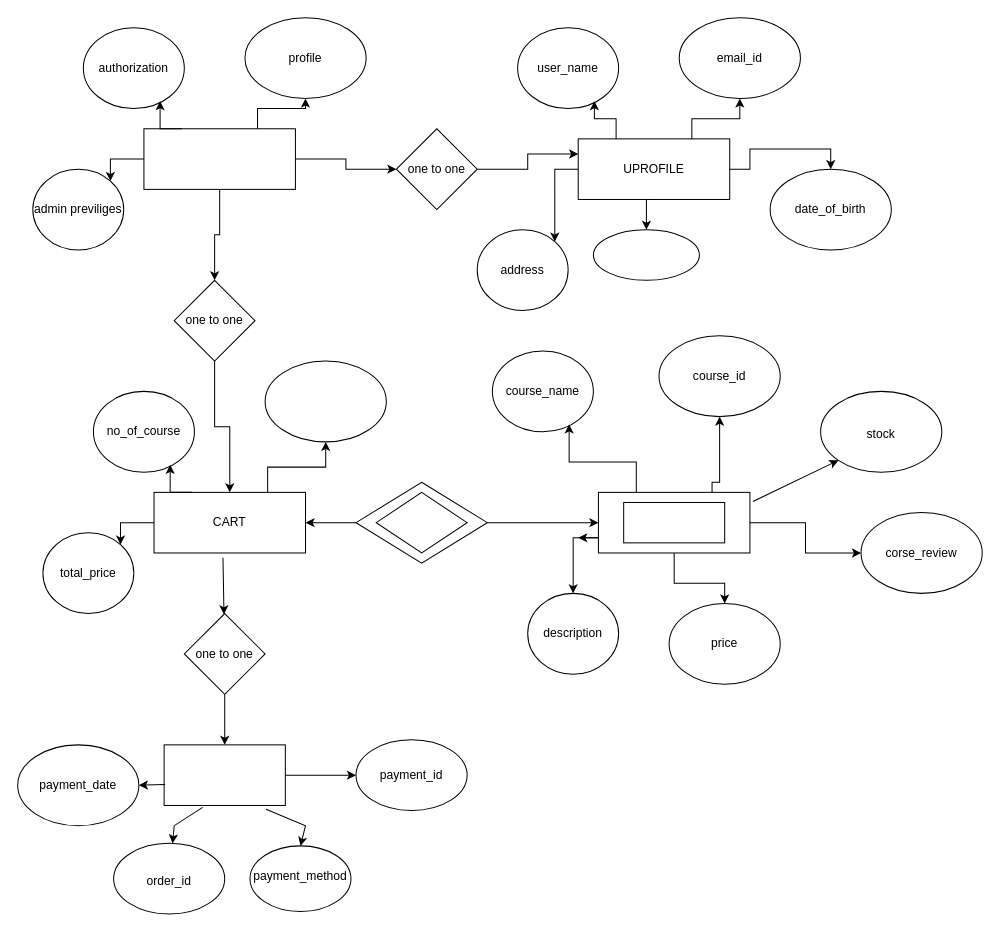
Image size: 1000x932. Some labels were removed from this diagram. Each missing label, with the centre of its shape:
"cart_id" goes at point 325,401.
"contact_no" goes at point 645,254.
"COURSE" goes at point 674,522.
"many to many" goes at point 421,522.
"payment" goes at point 224,774.
"USER" goes at point 219,158.
